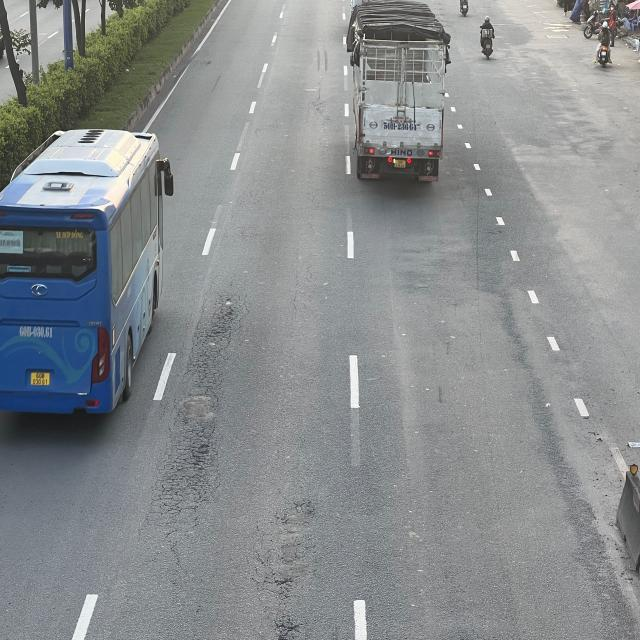coach: (0, 128, 167, 420)
truck: (345, 4, 453, 188)
